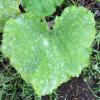Squash Powdery mildew leaf: (2, 5, 96, 97)
